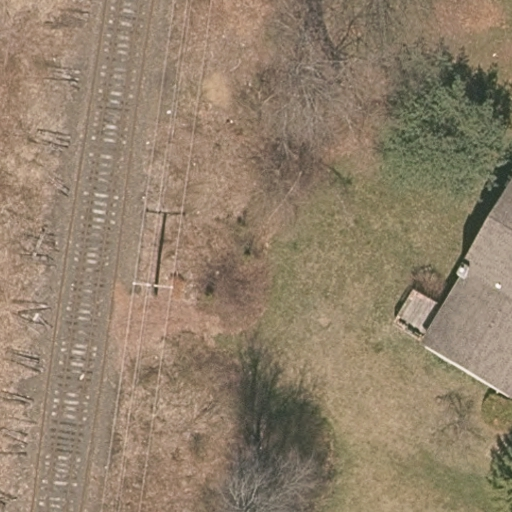DT: (130, 280, 175, 293)
